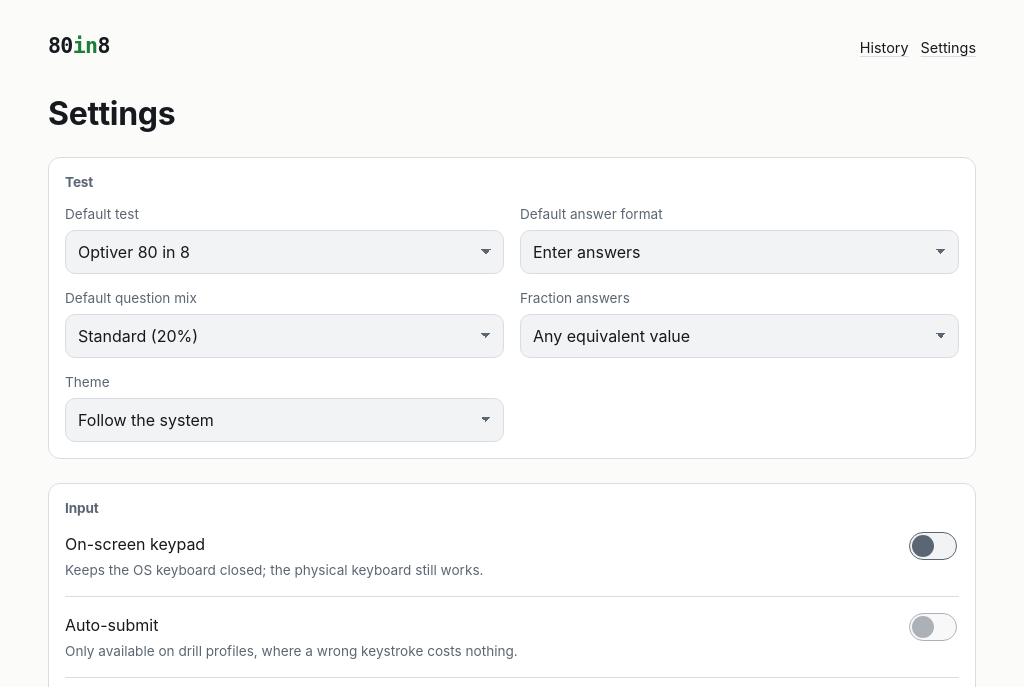
Test: the test section › shows the question mix only for the classic test and maps it to the legacy preset
Select "More missing numbers (40%)" in the dropdown with test id "setting-question-mix": (284, 336) [65,314,504,358]
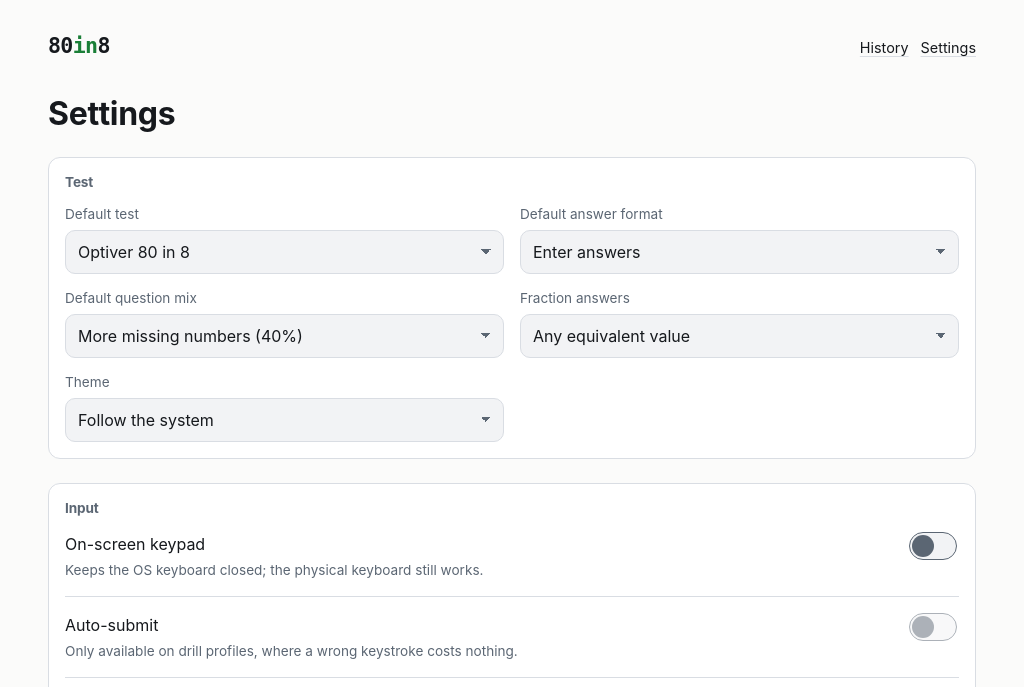
Expected: the dropdown with test id "setting-profile" shows "Optiver 80 in 8", [65,230,504,274]
Select "Standard (20%)" in the dropdown with test id "setting-question-mix": (284, 336) [65,314,504,358]
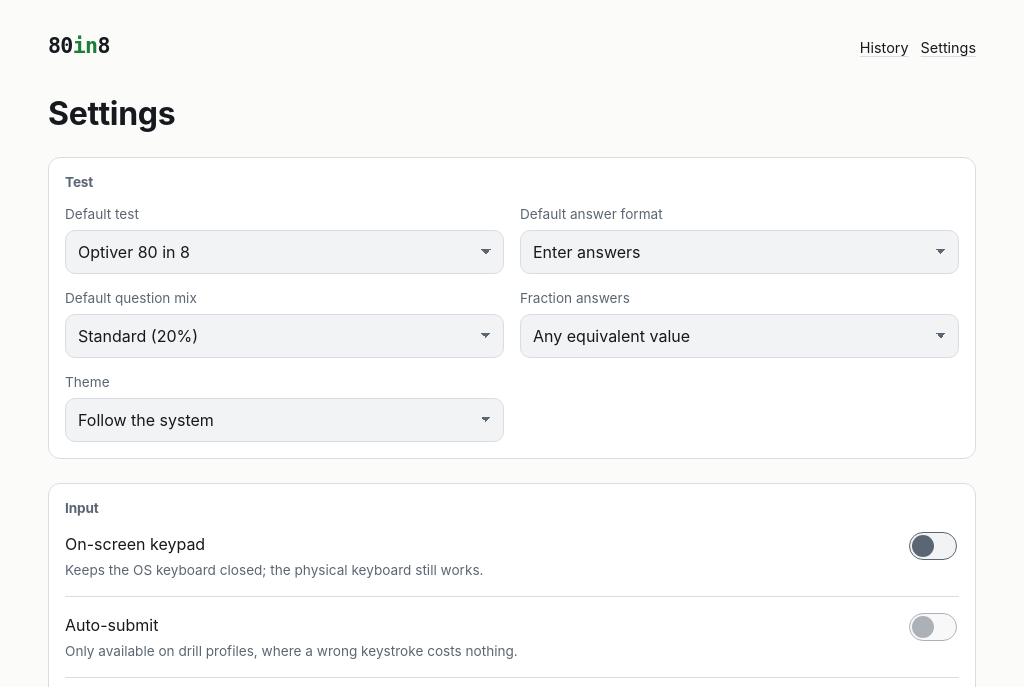
Select "Zetamac drill" in the dropdown with test id "setting-profile": (284, 252) [65,230,504,274]
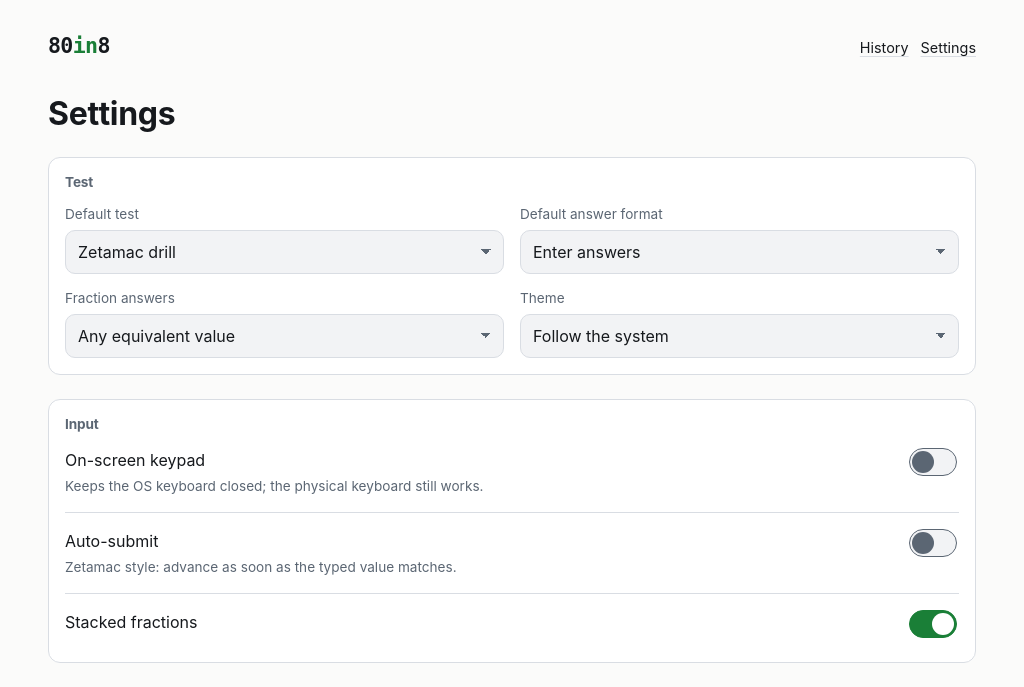
Result: the dropdown with test id "setting-question-mix" is gone
